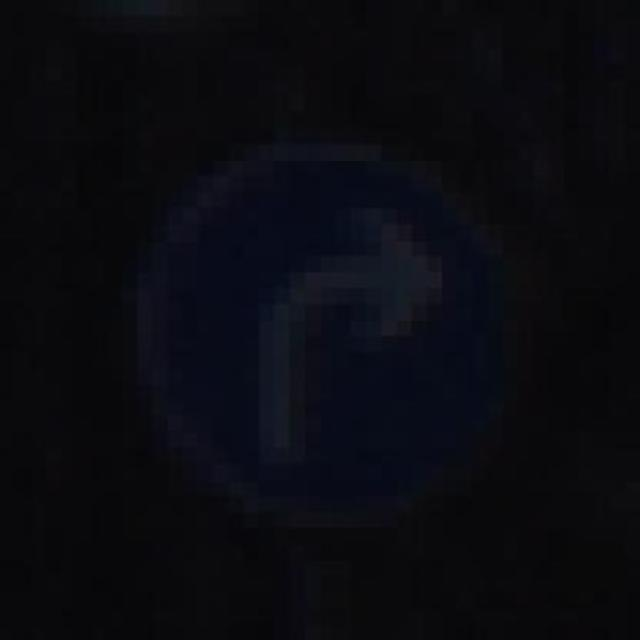Turn right ahead: (122, 118, 580, 551)
